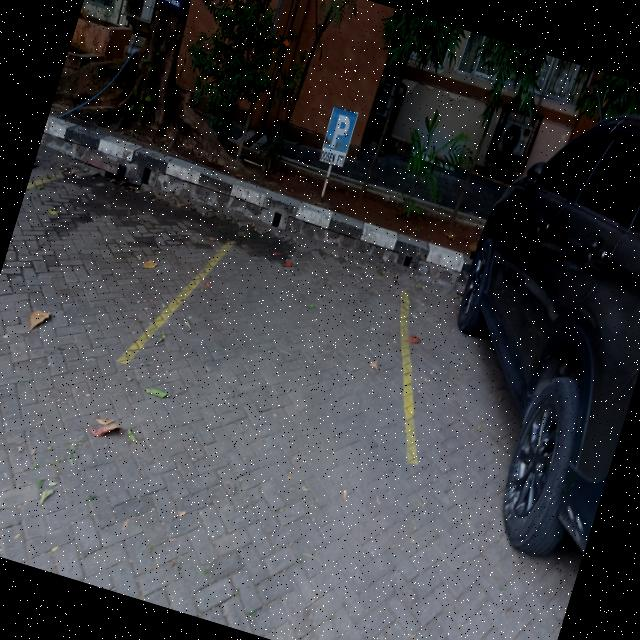empty: (118, 218, 416, 449), (0, 166, 250, 368)
occupied: (402, 117, 640, 585)
